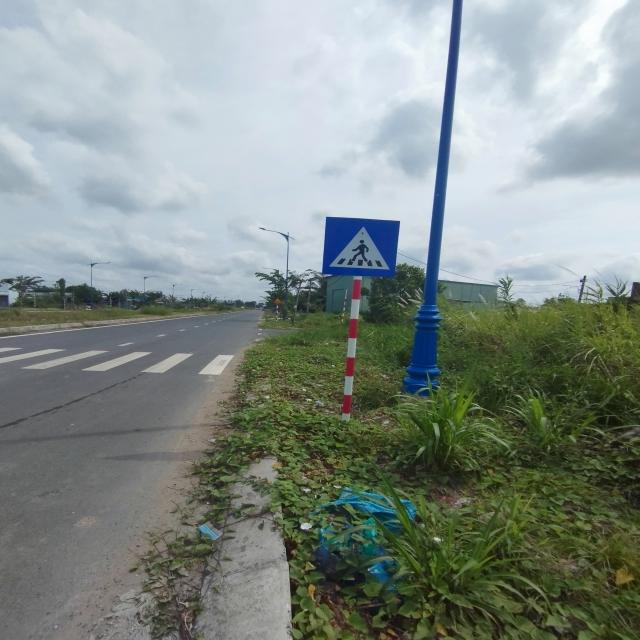Giao_Nhau_Duong_Uu_Tien: (322, 216, 400, 278)
